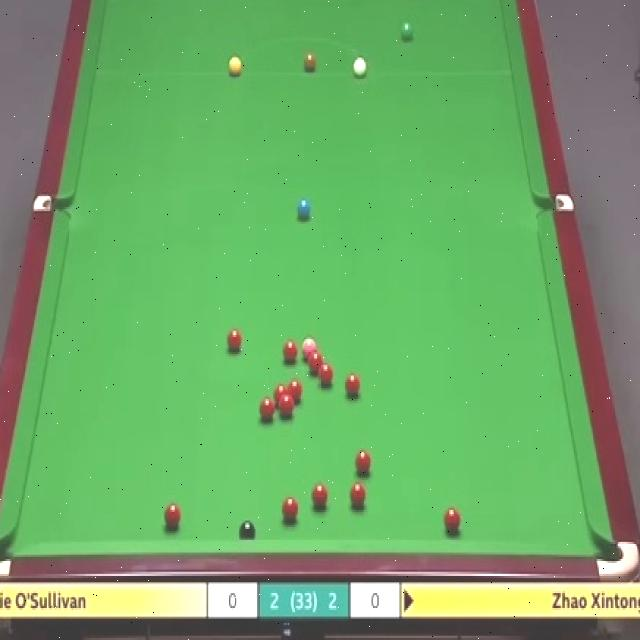black-ball: (241, 520, 259, 540)
blue-ball: (296, 200, 312, 218)
brown-ball: (304, 53, 317, 77)
green-ball: (402, 22, 412, 37)
pink-ball: (302, 337, 317, 358)
red-ball: (443, 506, 464, 538), (163, 502, 181, 529), (312, 480, 328, 510), (354, 450, 374, 474), (287, 379, 304, 406), (258, 397, 276, 422), (282, 497, 300, 522), (351, 483, 366, 507), (228, 328, 241, 353), (280, 395, 294, 418), (318, 365, 332, 388), (344, 375, 360, 394), (308, 351, 322, 372), (282, 340, 296, 360), (274, 385, 288, 405)
white-ball: (353, 55, 366, 76)
yellow-ball: (228, 56, 242, 77)
